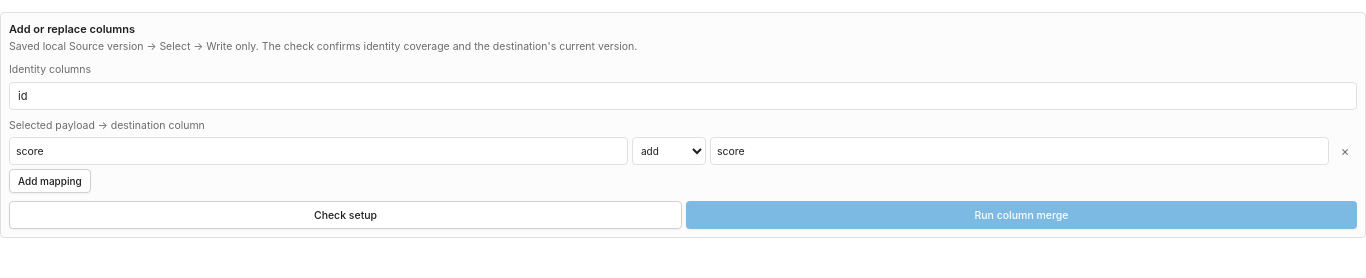
Test: MergeColumnsControl › turns structured validation errors into an actionable setup message
The width and height of the screenshot is (1366, 278).
Click the button "Check setup" at (346, 215), box [9,201,682,229]
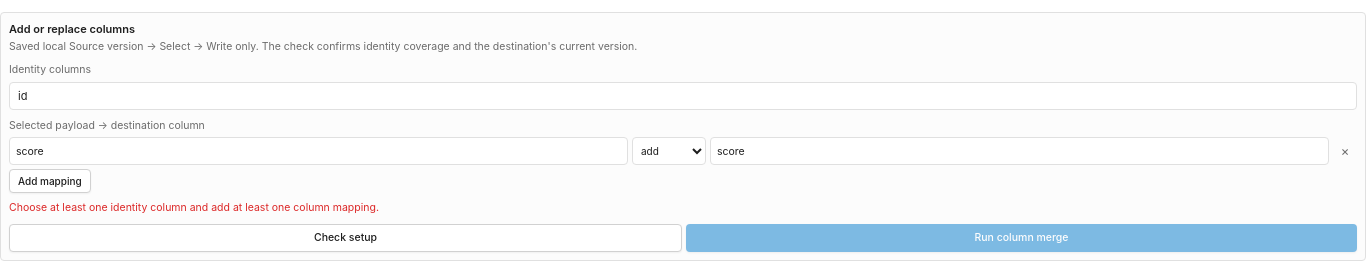
Now the message reads "Choose at least one identity column and add at least one column mapping.", box [9,201,379,214]
